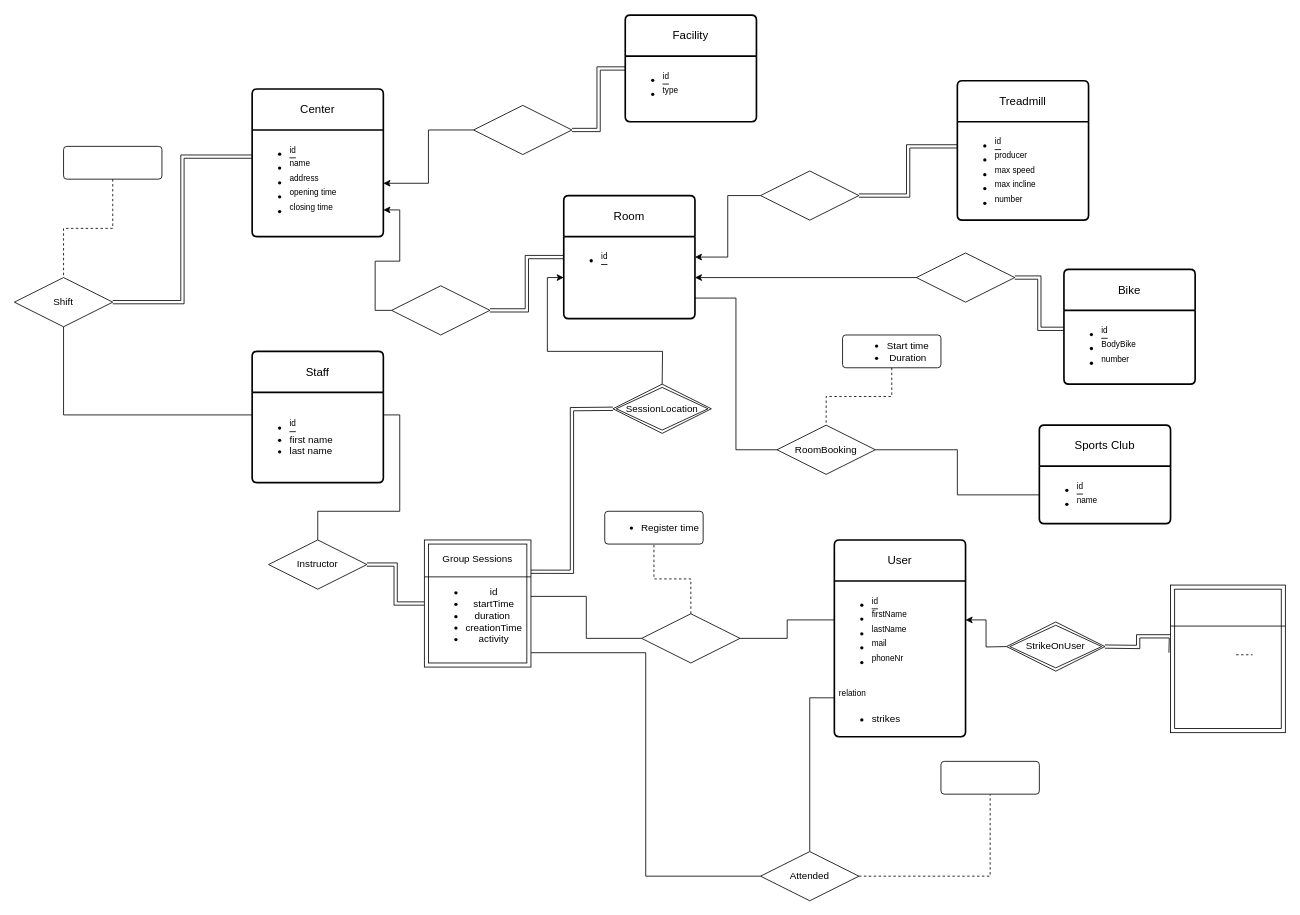
Image size: 1300x915. Some labels were removed from this diagram. The shapes that lost their labels are listed below. From the top down, each one's centre as x and y in pixels, then its label:
At point (522, 130): "FacilityAtCenter".
At point (112, 162): "Start time End time".
At point (809, 195): "TreadmillInRoom".
At point (965, 277): "BikeInRoom".
At point (440, 310): "RoomAtCenter".
At point (690, 638): "Registered".
At point (1227, 658): "Strikes id timestamp".
At point (989, 777): "ShowedUp".
